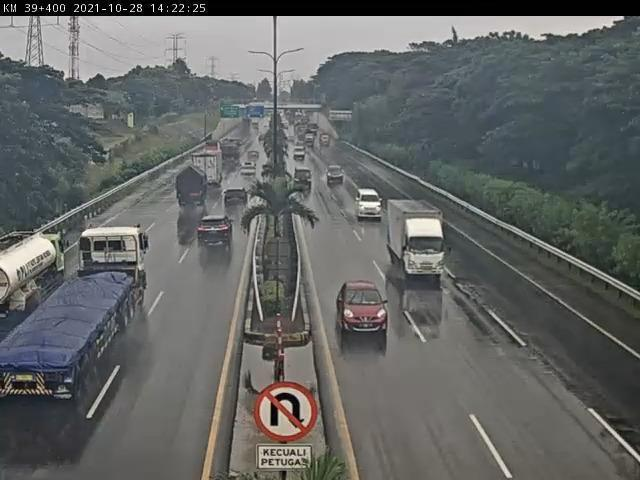car: (335, 282, 392, 337), (197, 216, 234, 247), (354, 189, 384, 222), (224, 187, 251, 209), (293, 166, 315, 190), (238, 161, 260, 181), (325, 165, 347, 185)
truck: (1, 225, 149, 404), (1, 226, 73, 314), (386, 198, 449, 281), (175, 163, 211, 208), (189, 153, 226, 187)
